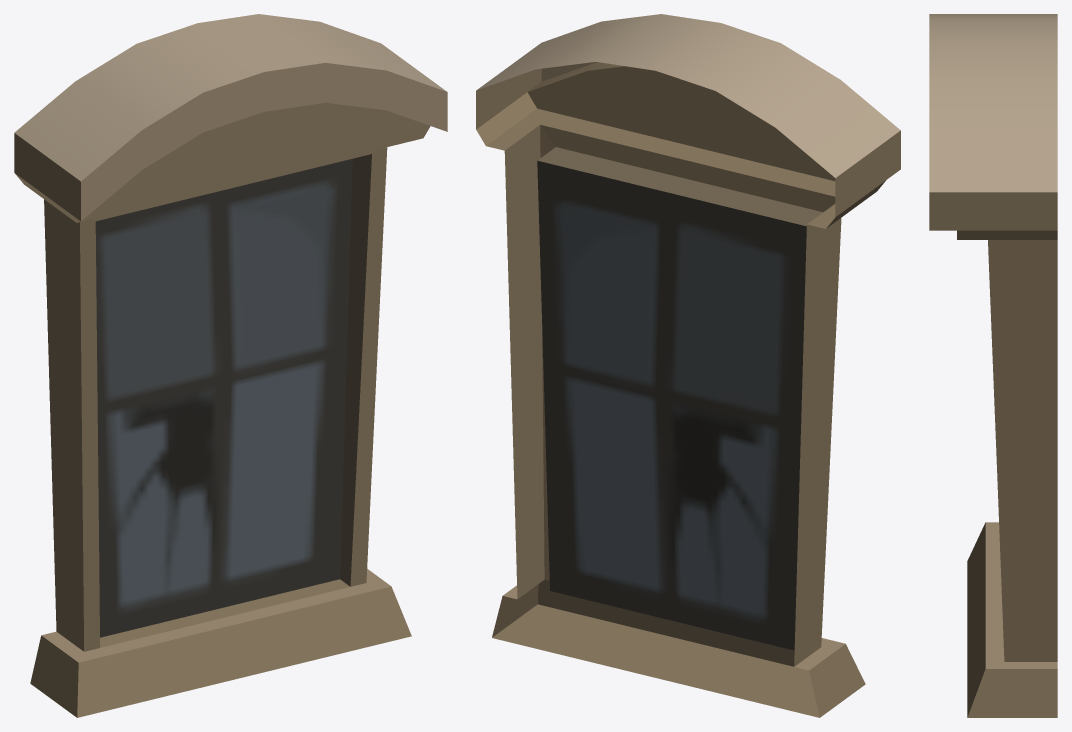
Rendered from Window_B07.fbx.
3 views of the same model, side by side, from view 1: azimuth 30°, elevation 25°; view 2: azimuth 150°, elevation 25°; view 3: azimuth 270°, elevation 25° (orthographic). The views are drawn at different scales.
Parts seen in each view (by area): view 1: Window_B07; view 2: Window_B07; view 3: Window_B07.
Boxes of the visible parts, x1,y1,x2,y2 form: Window_B07: [14, 14, 447, 717]; Window_B07: [476, 14, 900, 717]; Window_B07: [929, 14, 1057, 717].
Size of the model in its own units: 181 by 292 by 56.94.
